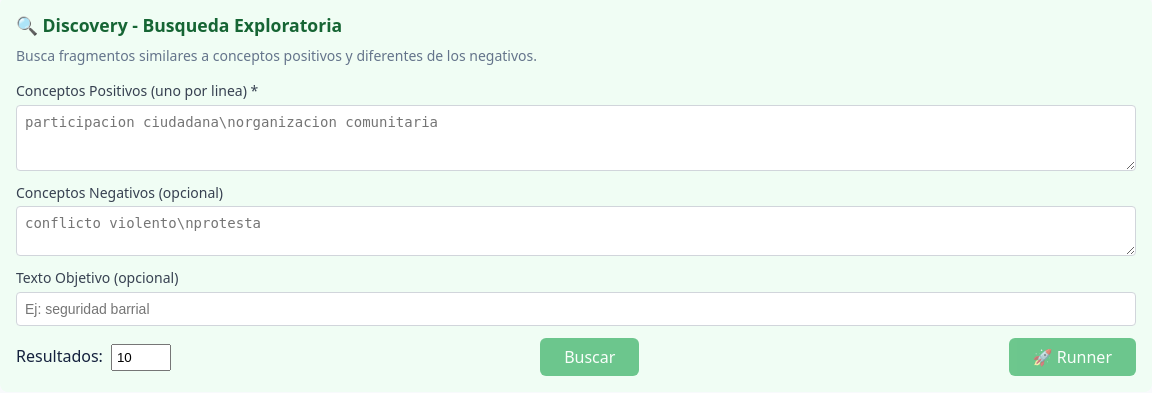
DiscoveryPanel › shows loading state during search
Step 1. Type "test" into the text box labelled "Conceptos Positivos (uno por linea) *" → (576, 138), box [16,105,1136,171]
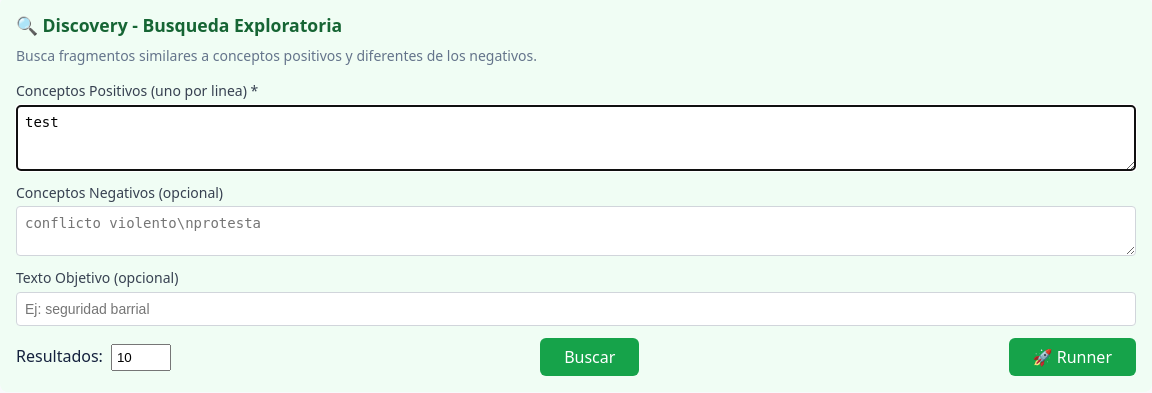
Step 2. Click the button "Buscar" → (590, 357), box [540,338,639,376]
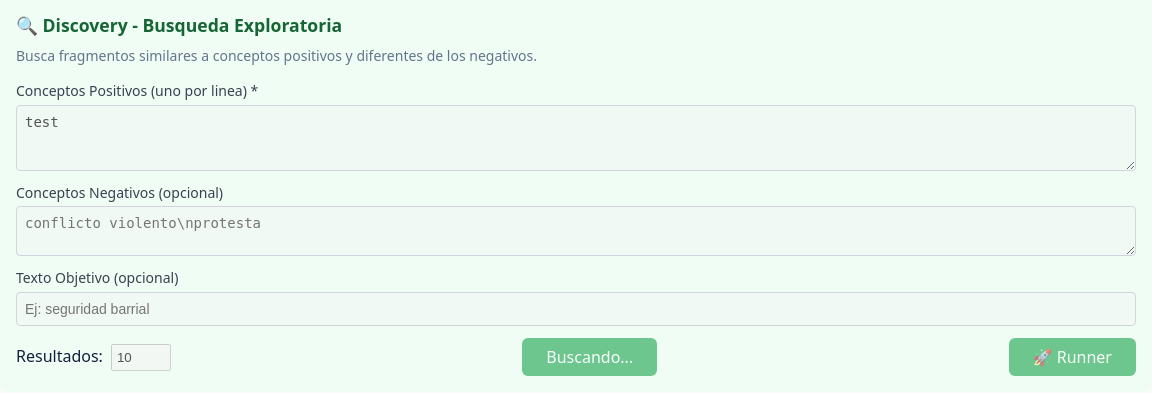
expect the button named "buscar" is disabled: met, box [522,338,657,376]
